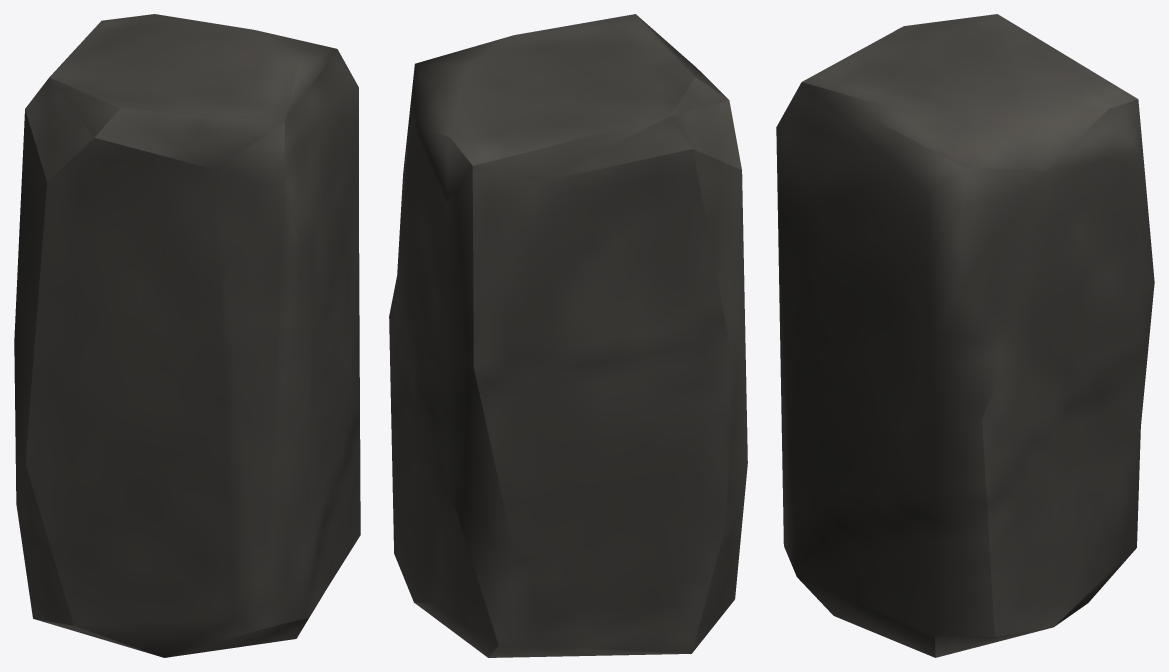
Rendered from Block3.fbx.
3 renders of one model, left to right at view 1: azimuth 30°, elevation 25°; view 2: azimuth 150°, elevation 25°; view 3: azimuth 270°, elevation 25°, orthographic. The views are drawn at different scales.
Visible parts, largest first — view 1: Block3; view 2: Block3; view 3: Block3.
Part boxes in pixels (<box>): Block3: <box>14,14,360,657</box>; Block3: <box>389,14,747,657</box>; Block3: <box>776,14,1154,657</box>.
Size of the model in its own units: 110 by 167 by 109.
1 material, 1 textured.
